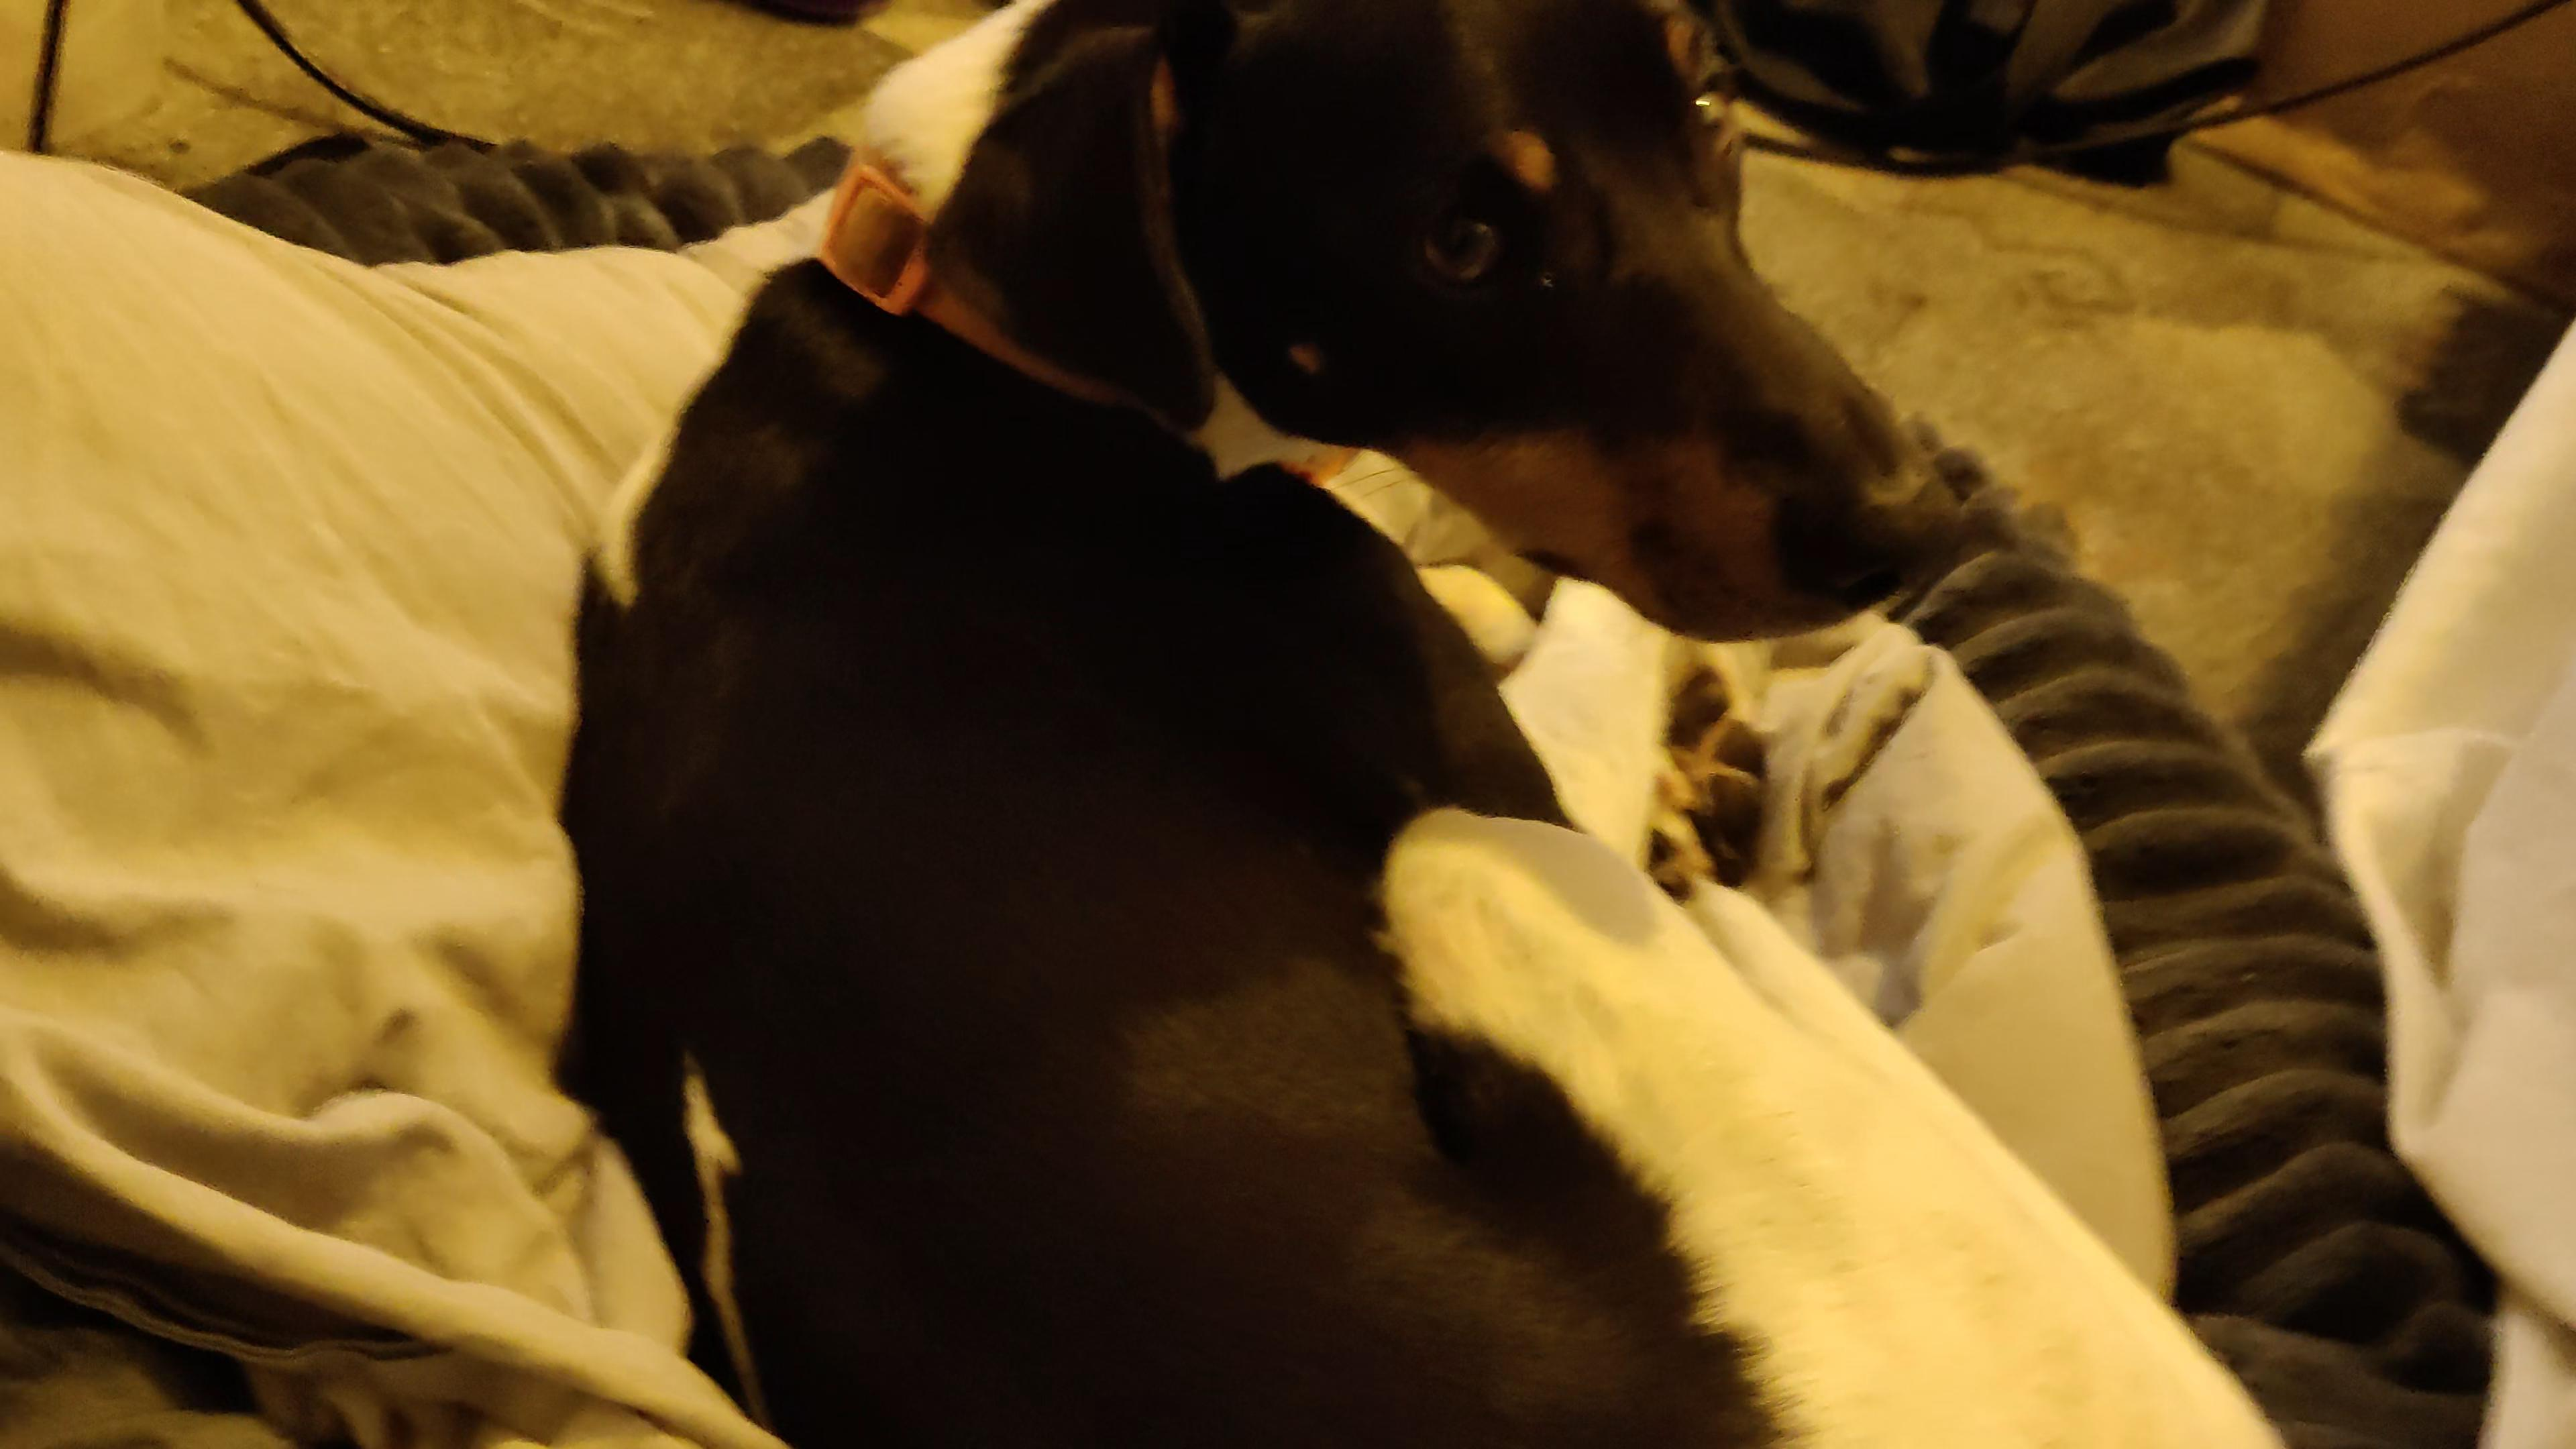Dog: (541, 0, 2307, 1449)
